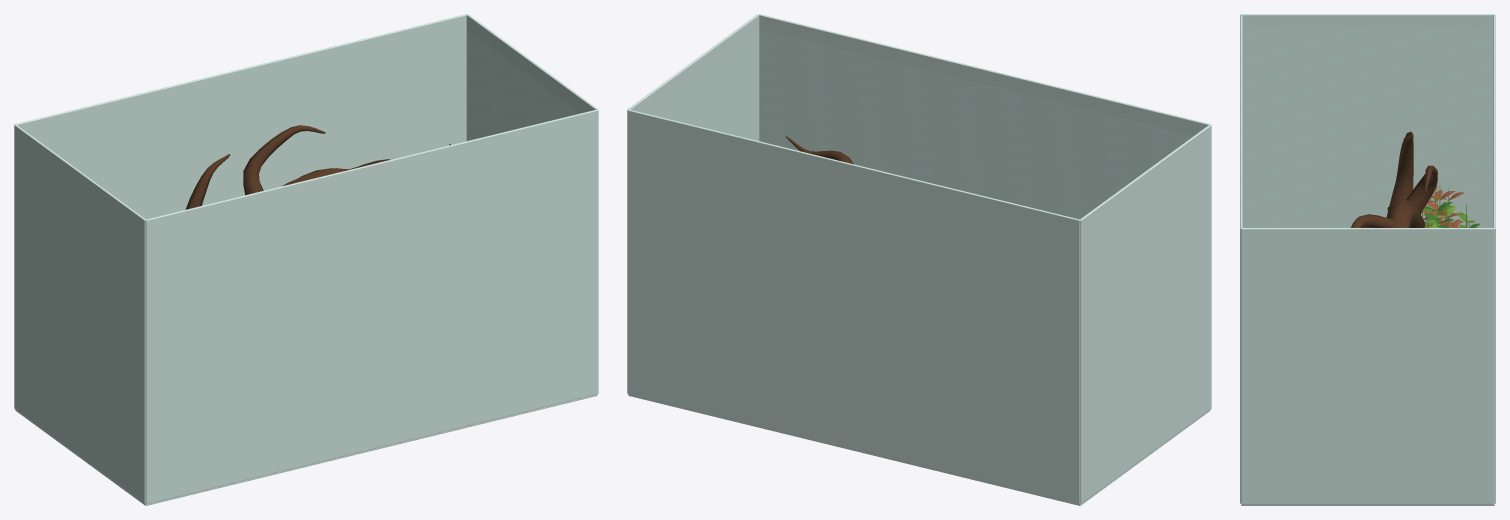
File: hero-60-arch.glb
3 views of the same model, side by side, from view 1: azimuth 30°, elevation 25°; view 2: azimuth 150°, elevation 25°; view 3: azimuth 270°, elevation 25° (orthographic). The views are drawn at different scales.
Visible parts, largest first — view 1: tank.glass.front, tank.glass.back, tank.glass.left, tank.glass.right, hardscape.wood.arch, tank.glass.base; view 2: tank.glass.back, tank.glass.front, tank.glass.left, tank.glass.right, tank.glass.base; view 3: tank.glass.right, tank.glass.left, hardscape.wood.arch, tank.glass.back, tank.glass.front, plants.stem.015, tank.glass.base, plants.stem.009.
Boxes of the visible parts, x1,y1,x2,y2 form: tank.glass.front: (145,109,598,503); tank.glass.back: (15,14,466,219); tank.glass.left: (14,124,145,503); tank.glass.right: (466,14,598,392); hardscape.wood.arch: (185,125,450,209); tank.glass.base: (15,394,597,505); tank.glass.back: (627,109,1080,503); tank.glass.front: (759,14,1210,219); tank.glass.left: (1080,124,1211,503); tank.glass.right: (627,14,759,392); tank.glass.base: (628,394,1210,505); tank.glass.right: (1241,228,1494,504); tank.glass.left: (1241,14,1494,227); hardscape.wood.arch: (1351,131,1437,227); tank.glass.back: (1493,14,1495,503); tank.glass.front: (1240,14,1242,503); plants.stem.015: (1422,185,1464,227); tank.glass.base: (1241,504,1494,505); plants.stem.009: (1423,195,1455,227).
Bounding box in the file's own units: 0.603 × 0.363 × 0.303.
